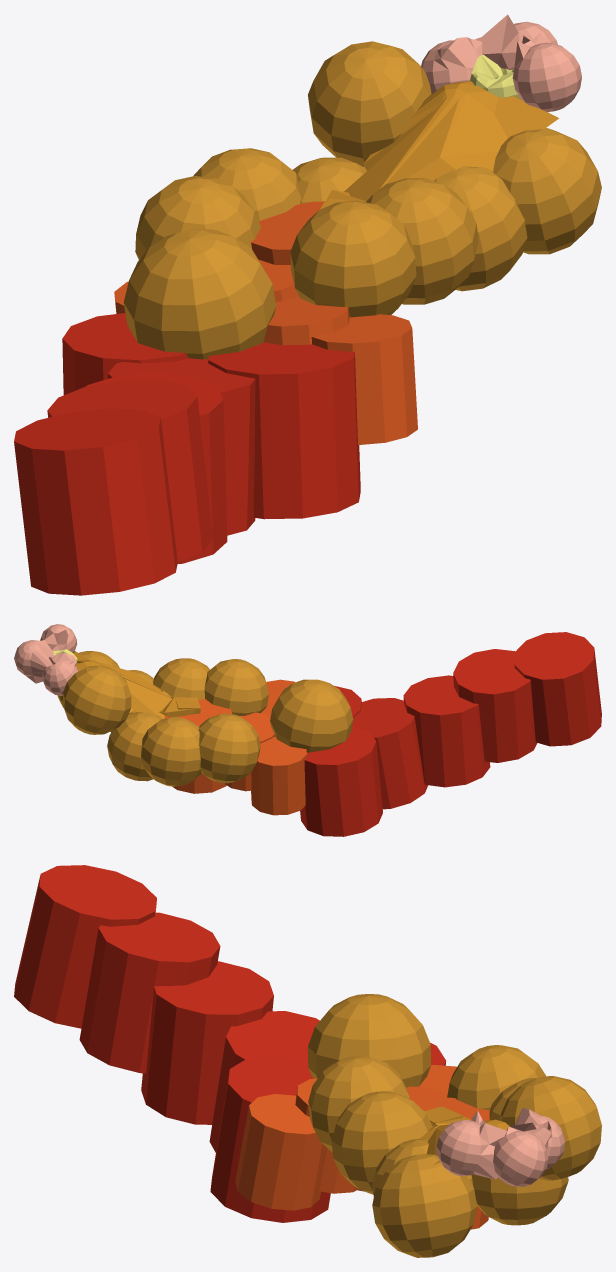
Rendered from colored-level.obj.
3 renders of one model, top to bottom at view 1: azimuth 30°, elevation 25°; view 2: azimuth 150°, elevation 25°; view 3: azimuth 270°, elevation 25°, orthographic. The views are drawn at different scales.
Parts seen in each view (by area): view 1: group1472391897, group771259255, group230135824, group1278145169, group1908010150, group603609741, group720080980, group189878505, group1691841618, group1580645133, group1279787056, group1795552723 (+12 smaller); view 2: group1472391897, group1773039900, group327869312, group720080980, group1279787056, group230135824, group603609741, group7290928, group1795552723, group93343989, group1278145169, group901527568 (+10 smaller); view 3: group1472391897, group720080980, group327869312, group1691841618, group189878505, group230135824, group771259255, group1580645133, group603609741, group1279787056, group1278145169, group1795552723 (+8 smaller).
Boxes of the visible parts, x1,y1,x2,y2 form: group1472391897: (14,408,177,595); group771259255: (208,342,360,519); group230135824: (123,229,276,359); group1278145169: (290,200,416,317); group1908010150: (344,81,558,201); group603609741: (308,41,431,167); group720080980: (47,379,213,561); group189878505: (493,128,601,254); group1691841618: (311,314,417,444); group1580645133: (366,178,478,304); group1279787056: (107,358,255,535); group1795552723: (135,176,260,259); group1472391897: (514,632,601,746); group1773039900: (300,726,382,836); group327869312: (403,675,490,787); group720080980: (453,649,537,762); group1279787056: (352,698,427,809); group230135824: (270,679,353,752); group603609741: (62,665,131,734); group7290928: (251,737,306,815); group1795552723: (198,713,260,783); group93343989: (141,717,201,786); group1278145169: (204,659,268,715); group901527568: (107,712,162,781); group1472391897: (14,865,156,1028); group720080980: (79,912,220,1073); group327869312: (141,961,273,1124); group1691841618: (235,1094,327,1210); group189878505: (372,1154,476,1257); group230135824: (308,994,430,1087); group771259255: (210,1055,330,1222); group1580645133: (331,1091,432,1194); group603609741: (500,1076,601,1180); group1279787056: (209,1011,319,1152); group1278145169: (308,1055,409,1152); group1795552723: (447,1045,546,1110).
Size of the model in its own units: 5.26 by 1.85 by 4.15.
